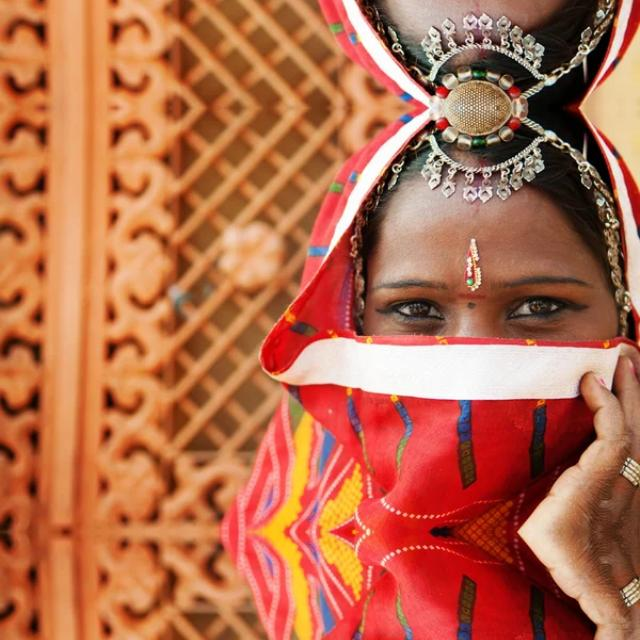person: (254, 109, 640, 532), (254, 531, 640, 640), (254, 0, 640, 105)
